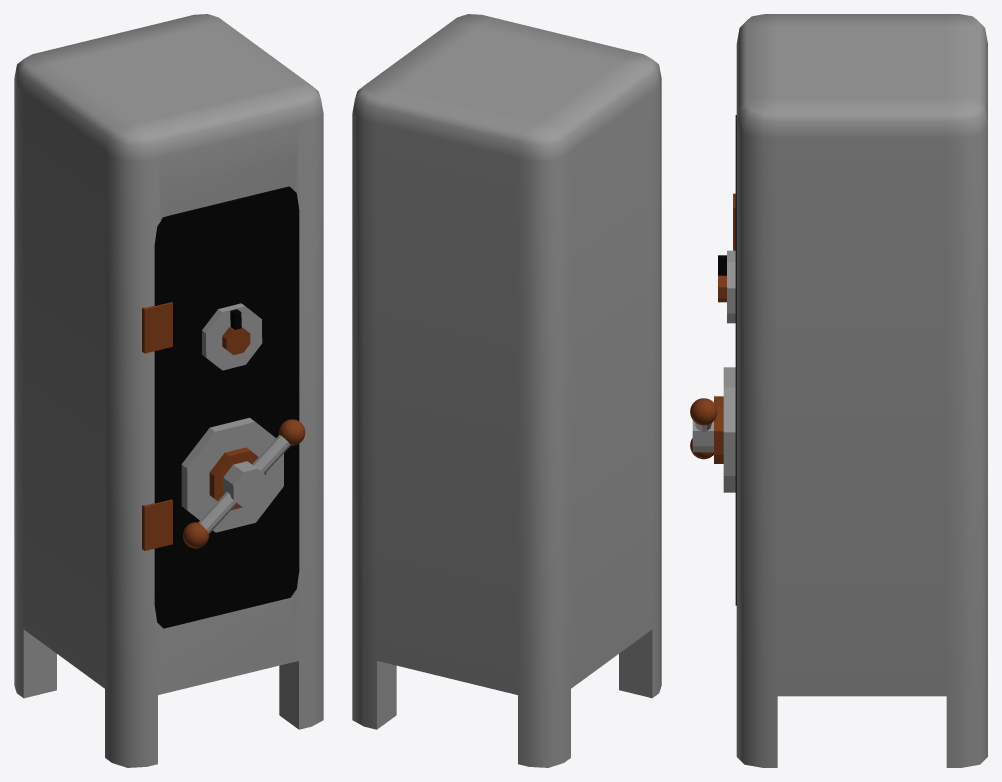
The model's file is Safe.fbx.
3 renders of one model, left to right at view 1: azimuth 30°, elevation 25°; view 2: azimuth 150°, elevation 25°; view 3: azimuth 270°, elevation 25°, orthographic. The views are drawn at different scales.
Visible parts, largest first — view 1: Safe, Door; view 2: Safe; view 3: Safe, Door.
Part boxes in pixels (x1=…): Safe: x1=14, y1=14, x2=323, y2=767; Door: x1=142, y1=186, x2=305, y2=628; Safe: x1=352, y1=14, x2=661, y2=767; Safe: x1=736, y1=14, x2=987, y2=767; Door: x1=690, y1=115, x2=736, y2=605.
Bounding box in the file's own units: 100 × 119 × 286.
